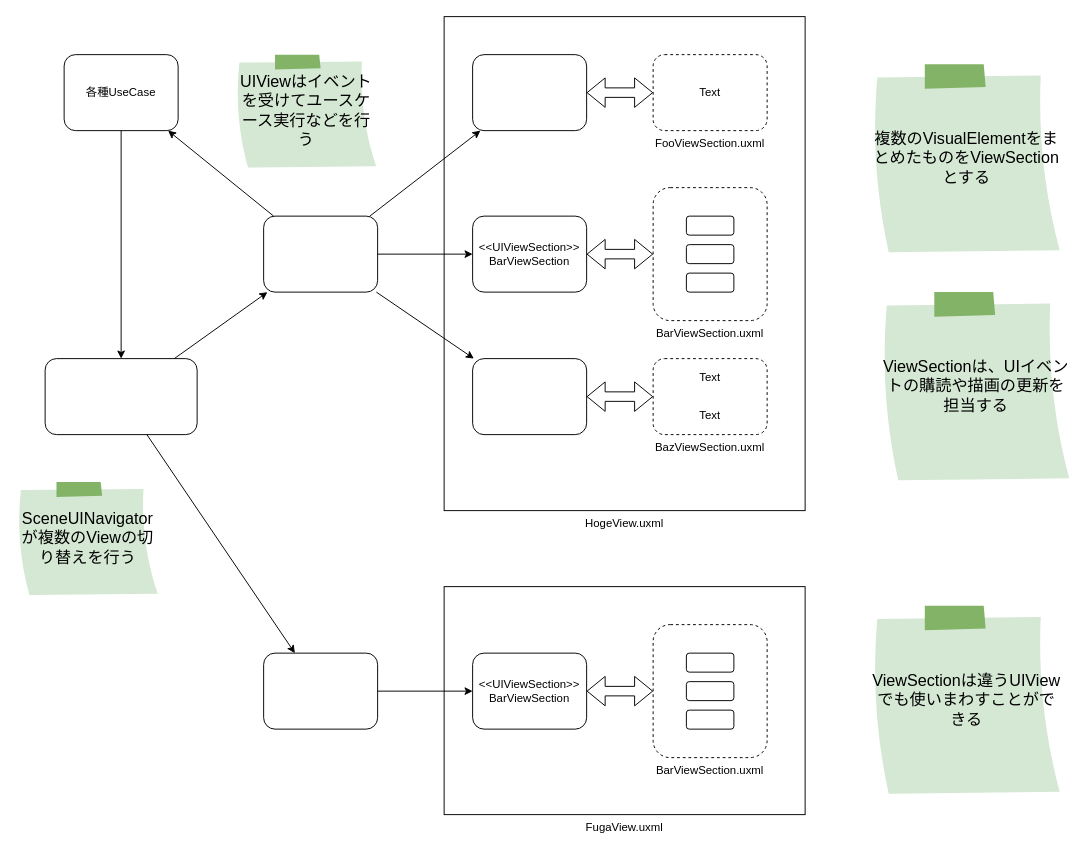
This 1088x851 diagram has some shape labels left out. The shapes that lost their labels are listed below. From the top down, each one's centre as x and y in pixels, then its label:
At (529,92): "<<UIViewSection>> FooViewSection".
At (320,253): "<<UIView>> HogeView".
At (120,396): "SomeSceneUINavigator".
At (529,396): "<<UIViewSection>> BazViewSection".
At (320,690): "<<UIView>> FugaView".
